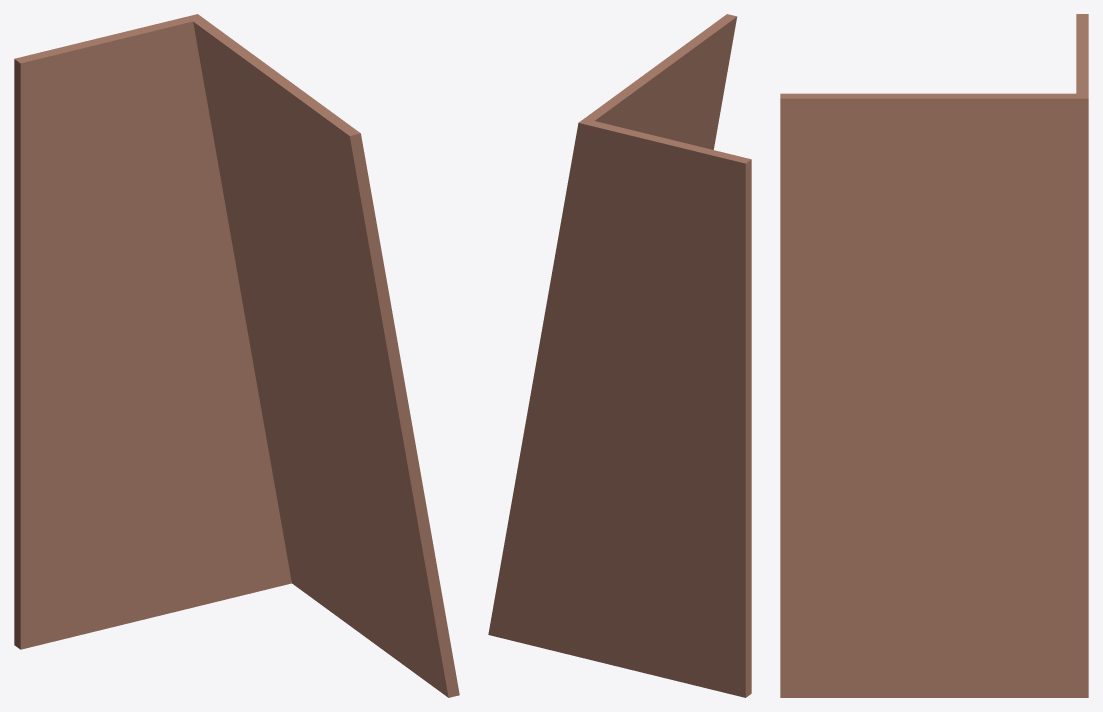
File: mur fond angle rdc.FBX
The picture shows the model from 3 angles, left to right: view 1: azimuth 30°, elevation 25°; view 2: azimuth 150°, elevation 25°; view 3: azimuth 270°, elevation 25°; orthographic projection. The views are drawn at different scales.
Parts seen in each view (by area): view 1: mur fond angle rdc; view 2: mur fond angle rdc; view 3: mur fond angle rdc.
Part boxes in pixels (left/top/right/bottom): mur fond angle rdc: left=14, top=14, right=459, bottom=697; mur fond angle rdc: left=488, top=14, right=751, bottom=697; mur fond angle rdc: left=780, top=14, right=1088, bottom=697.
Bounding box in the file's own units: 101 × 201 × 101.
Materials: 1 (1 with a texture image).
